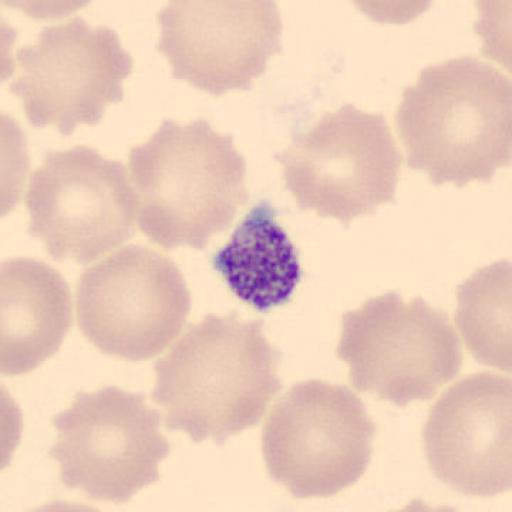Platelet: (210, 201, 308, 312)
RBC: (151, 311, 284, 448), (127, 114, 250, 252), (395, 54, 512, 190), (6, 15, 134, 137), (278, 101, 402, 225), (47, 384, 171, 505), (259, 377, 377, 502), (22, 143, 142, 265), (73, 244, 194, 364), (340, 291, 464, 407), (154, 0, 285, 97), (419, 369, 512, 499), (2, 255, 73, 377), (452, 256, 512, 373), (473, 0, 512, 92), (0, 112, 30, 221), (340, 0, 441, 27), (473, 0, 512, 66), (0, 380, 24, 479), (5, 0, 106, 21), (7, 496, 128, 512), (371, 495, 484, 512), (0, 10, 20, 87), (372, 500, 490, 512)
